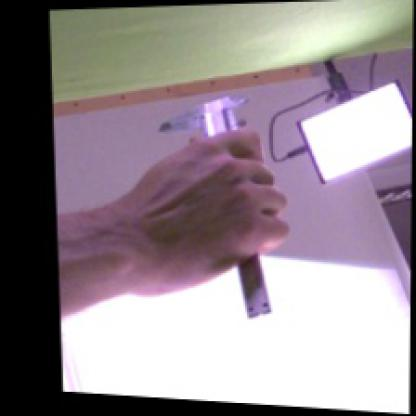Hand: (127, 126, 289, 297)
